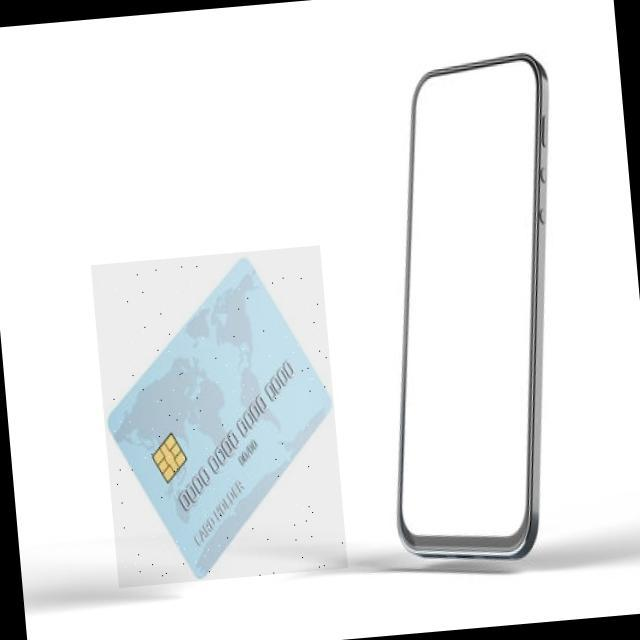payment_card: (105, 256, 332, 577)
